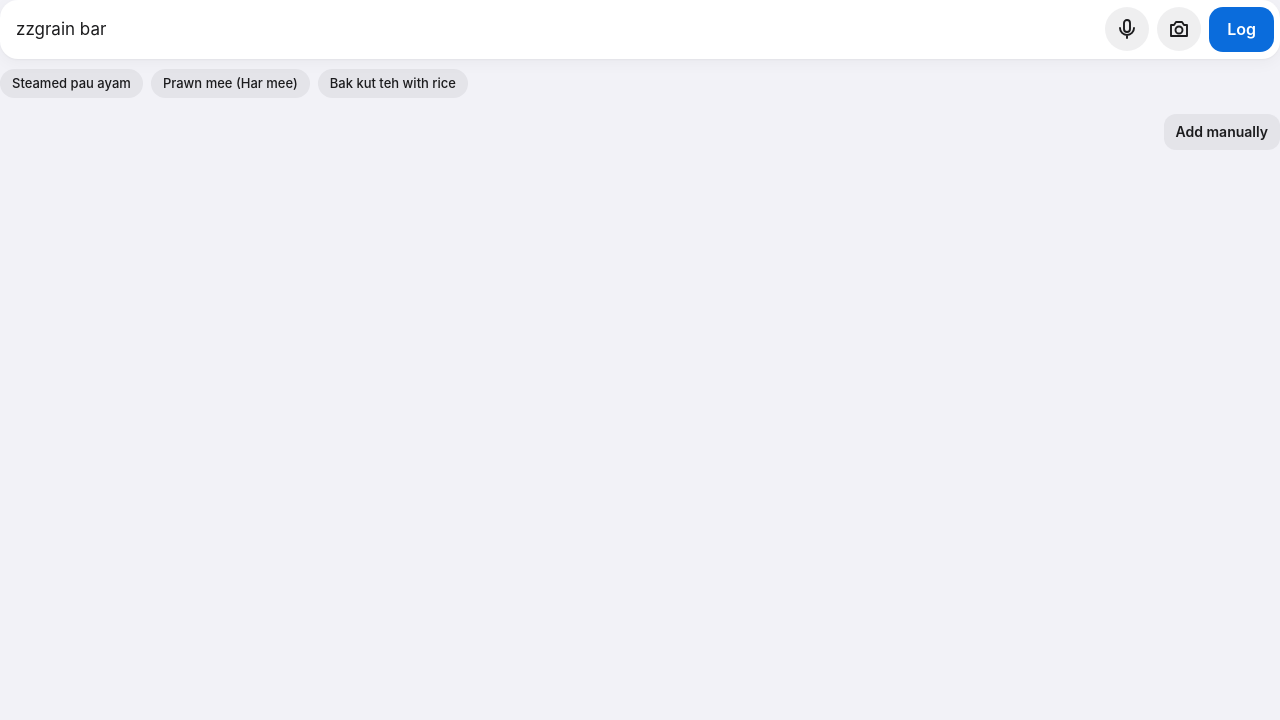
Log with a food we do not know › then auto-fills macros, and changing the unit to grams rescales them
The image size is (1280, 720).
Click the button "Log" at coordinates (1242, 30), box [1209,7,1274,52]
(page scrolled)
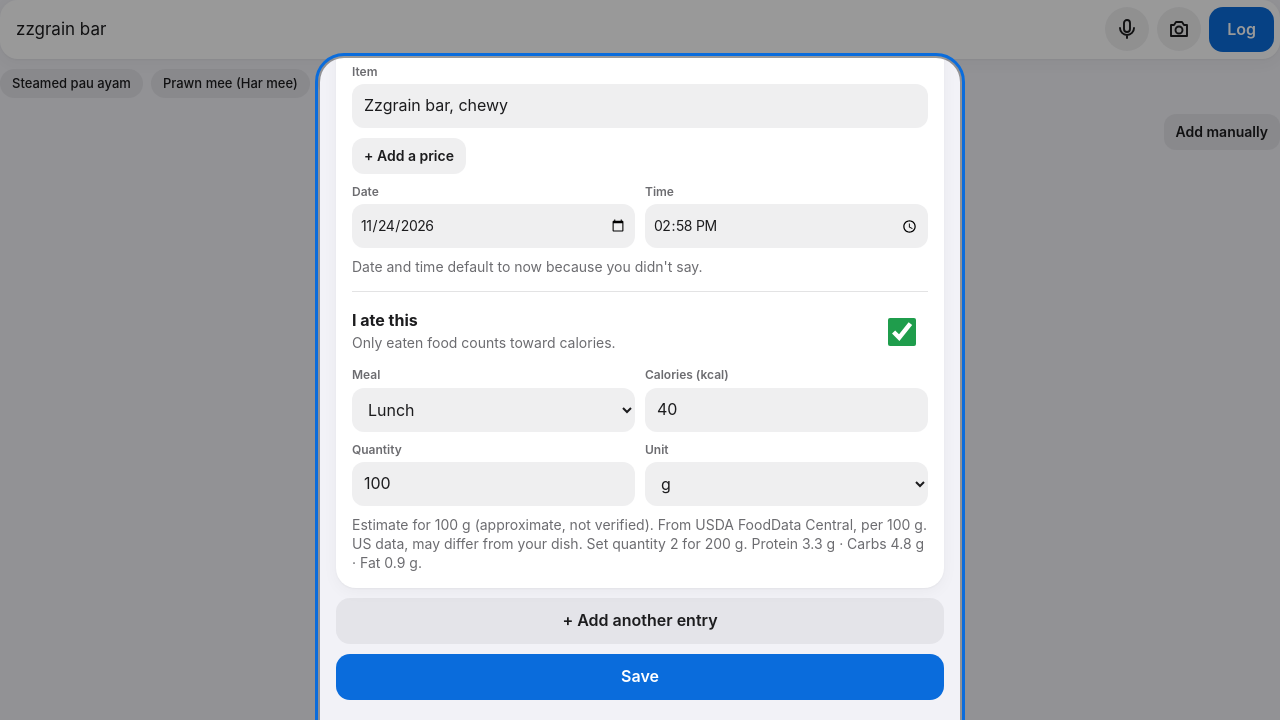
Expected: the field labelled "Calories (kcal)" holds "40", [645,388,928,432]
Expected: the dropdown labelled "Unit" shows "g", [645,462,928,506]
Replace the text in the field labelled "Quantity" with "250" at coordinates (494, 484), box [352,462,635,506]
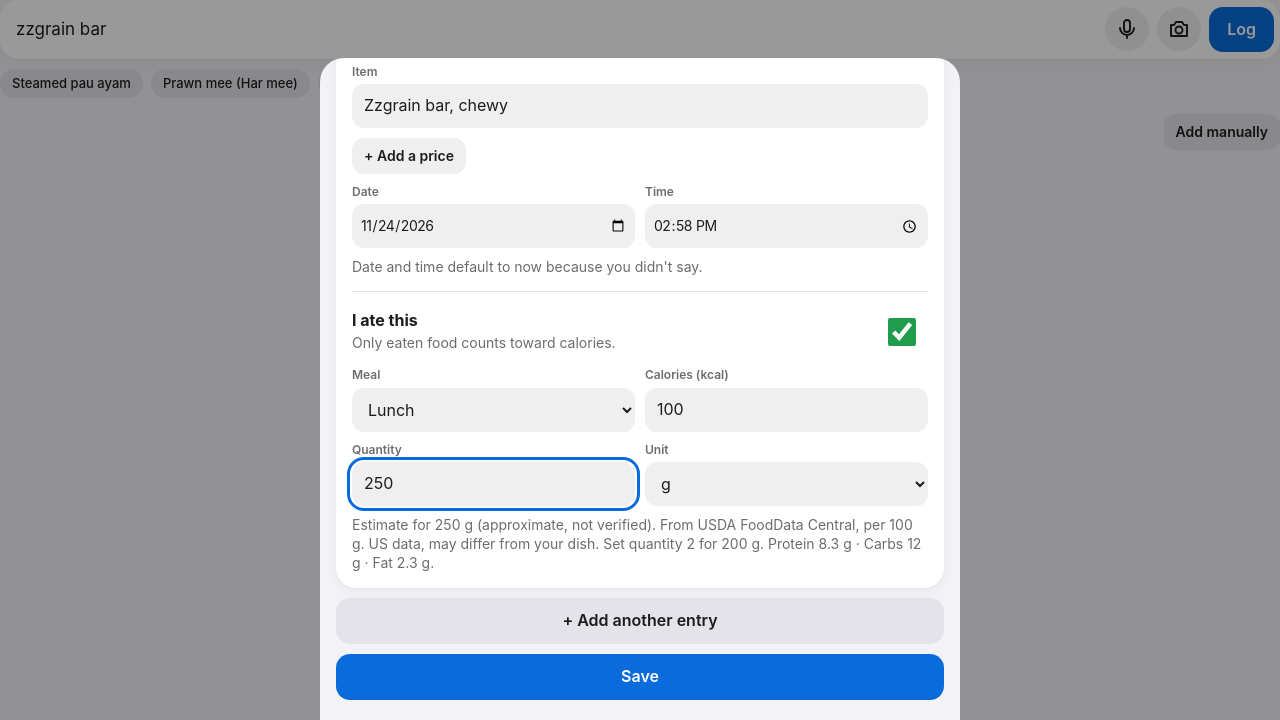
Expected: the field labelled "Calories (kcal)" holds "100", [645,388,928,432]
Select "oz" in the dropdown labelled "Unit" at coordinates (786, 484), box [645,462,928,506]
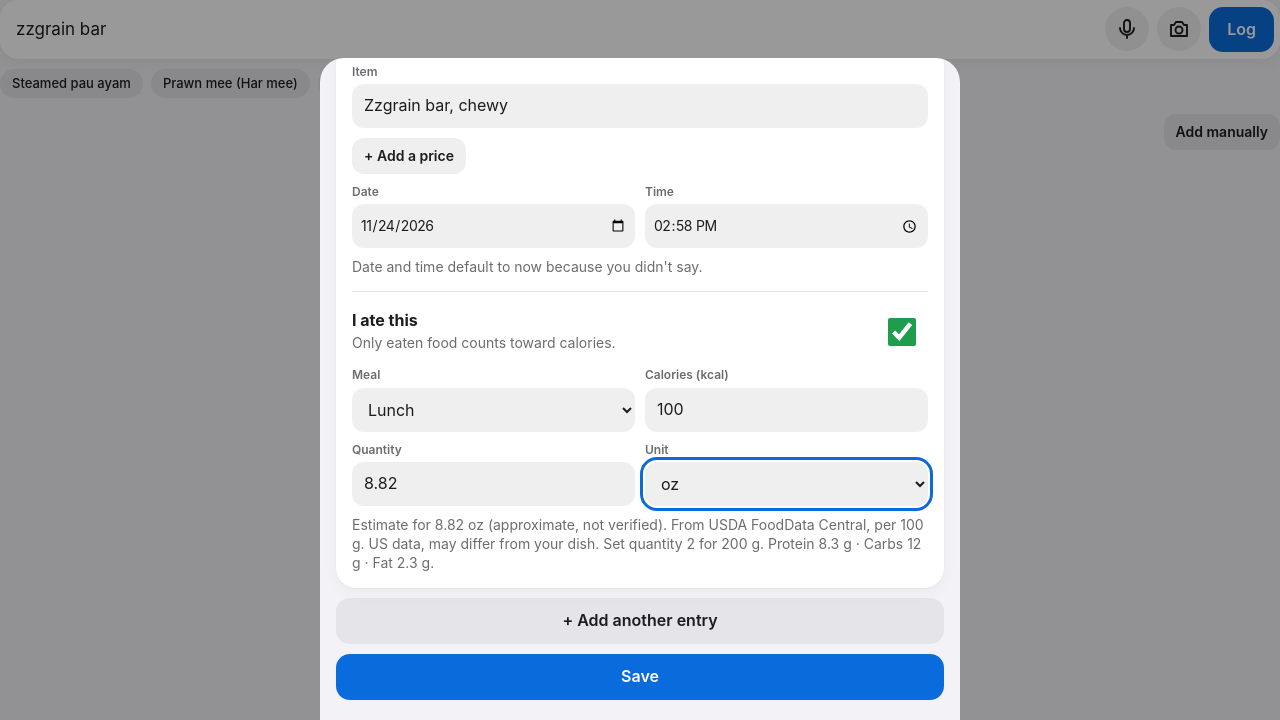
Expected: the field labelled "Calories (kcal)" holds "100", [645,388,928,432]
Expected: the field labelled "Quantity" holds "8.82", [352,462,635,506]
